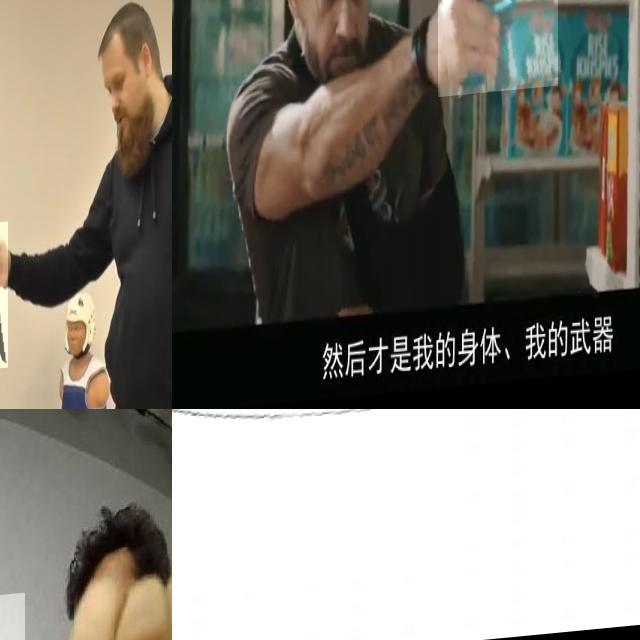-: (172, 409, 447, 612), (0, 227, 15, 376)
gun-knife-thesis - v11 Yolov5 augmented: (437, 0, 558, 103)
